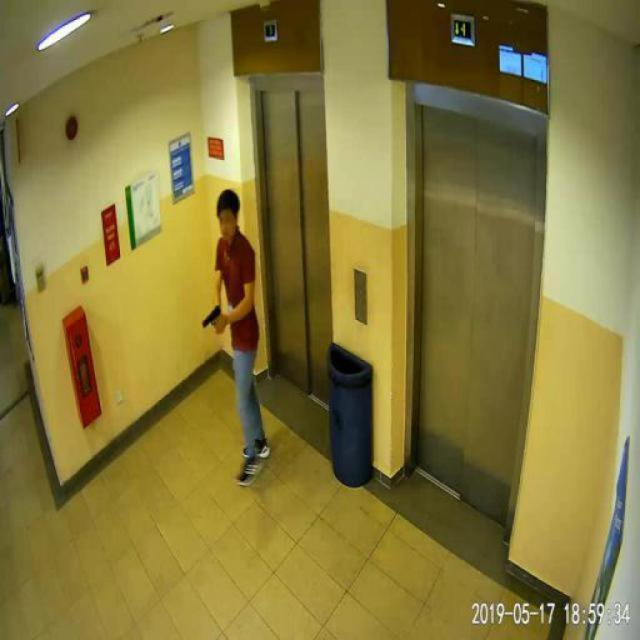pistol: (201, 305, 220, 330)
